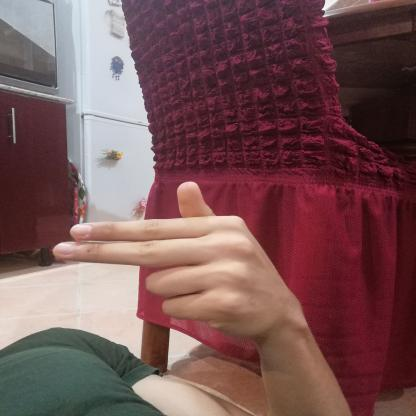GHAYN: (30, 168, 314, 348)
